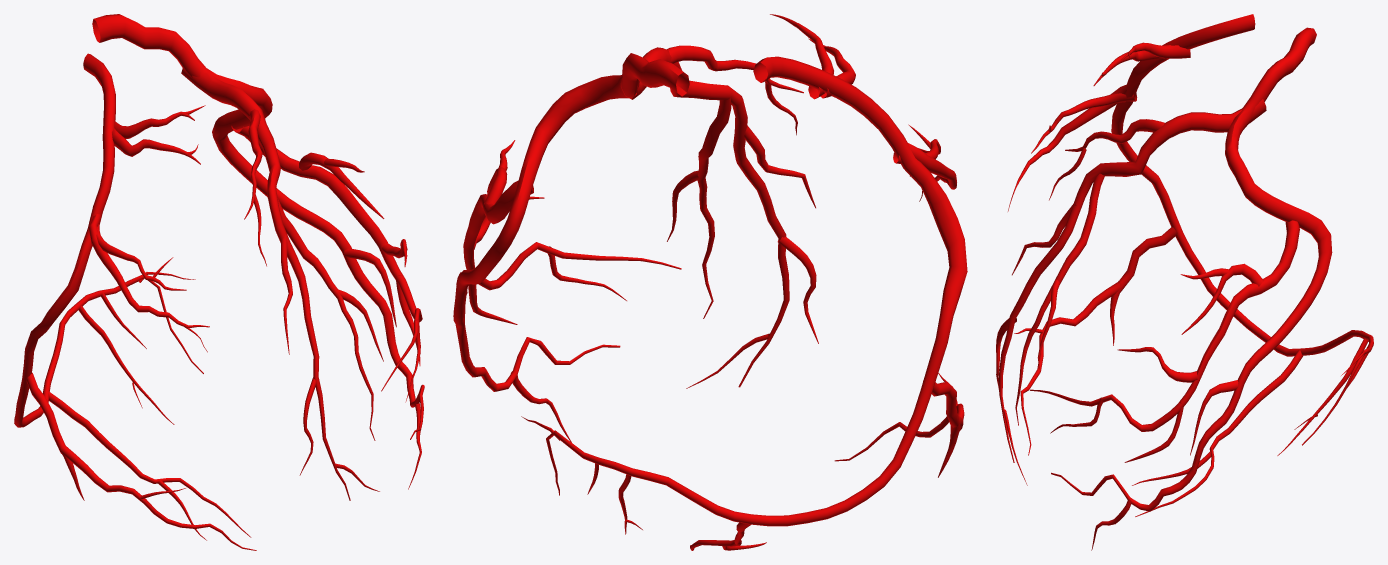
The model's file is Coronary_Arteries.fbx.
The picture shows the model from 3 angles, left to right: view 1: azimuth 30°, elevation 25°; view 2: azimuth 150°, elevation 25°; view 3: azimuth 270°, elevation 25°; orthographic projection. The views are drawn at different scales.
Parts seen in each view (by area): view 1: Coronary_Arteries; view 2: Coronary_Arteries; view 3: Coronary_Arteries.
Boxes of the visible parts, x1,y1,x2,y2 form: Coronary_Arteries: (14,14,424,550); Coronary_Arteries: (453,14,967,550); Coronary_Arteries: (996,14,1373,550).
Size of the model in its own units: 7.99 by 9.24 by 6.87.
